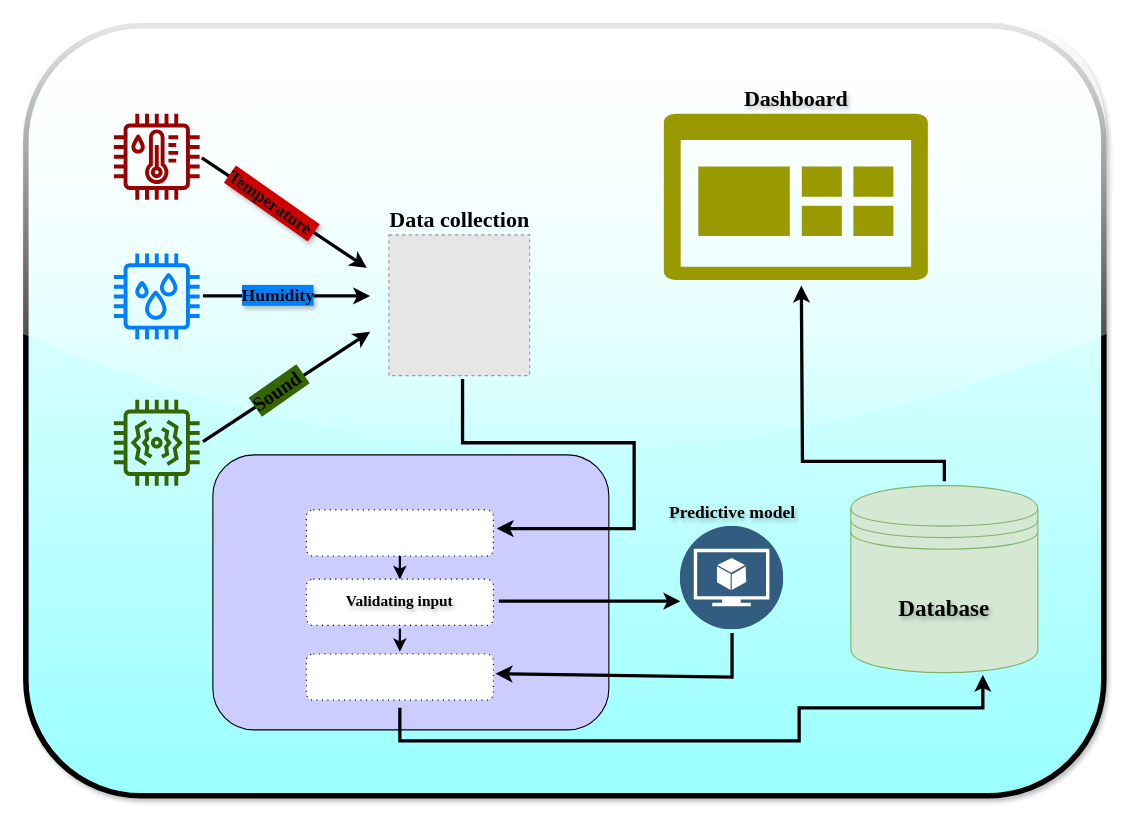
The diagram is 1132 pixels wide and 825 high, and some of its shapes have lost their labels. Grey dashed boxes stand in for pictures. Each missing label, with the centre of its shape:
Pre-processing the input: pixel 399 532
Storing input/output: pixel 399 676
